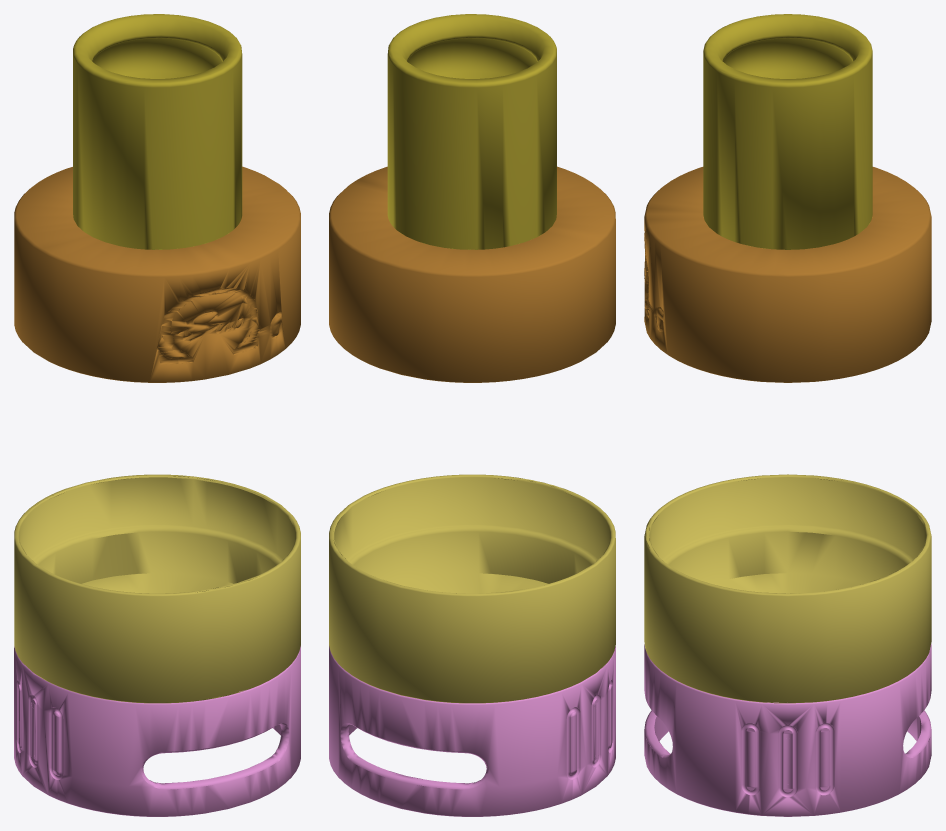
The model's file is Sipca1.dae.
3 views of the same model, side by side, from view 1: azimuth 30°, elevation 25°; view 2: azimuth 150°, elevation 25°; view 3: azimuth 270°, elevation 25° (orthographic).
Visible parts, largest first — view 1: __2776__PRT0042_DC_Shell, __8065__PRT0115_DC_Shell, __25899__PRT0130_DC_Shell, __20299__PRT0107__DC_Shell; view 2: __2776__PRT0042_DC_Shell, __8065__PRT0115_DC_Shell, __25899__PRT0130_DC_Shell, __20299__PRT0107__DC_Shell; view 3: __2776__PRT0042_DC_Shell, __8065__PRT0115_DC_Shell, __25899__PRT0130_DC_Shell, __20299__PRT0107__DC_Shell.
Part boxes in pixels (box(x1,y1,x2,y2)): __2776__PRT0042_DC_Shell: box(14, 474, 300, 703); __8065__PRT0115_DC_Shell: box(14, 166, 300, 382); __25899__PRT0130_DC_Shell: box(73, 14, 242, 249); __20299__PRT0107__DC_Shell: box(14, 646, 300, 816); __2776__PRT0042_DC_Shell: box(329, 474, 615, 703); __8065__PRT0115_DC_Shell: box(329, 166, 615, 382); __25899__PRT0130_DC_Shell: box(387, 14, 556, 249); __20299__PRT0107__DC_Shell: box(329, 646, 615, 816); __2776__PRT0042_DC_Shell: box(644, 474, 931, 703); __8065__PRT0115_DC_Shell: box(644, 167, 931, 382); __25899__PRT0130_DC_Shell: box(703, 14, 872, 249); __20299__PRT0107__DC_Shell: box(644, 644, 931, 816).
Size of the model in its own units: 22 by 22 by 59.9.
